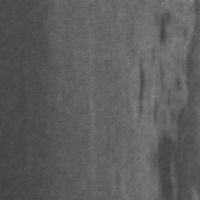inclusion: (155, 1, 199, 200), (135, 55, 174, 123), (159, 9, 190, 48)
